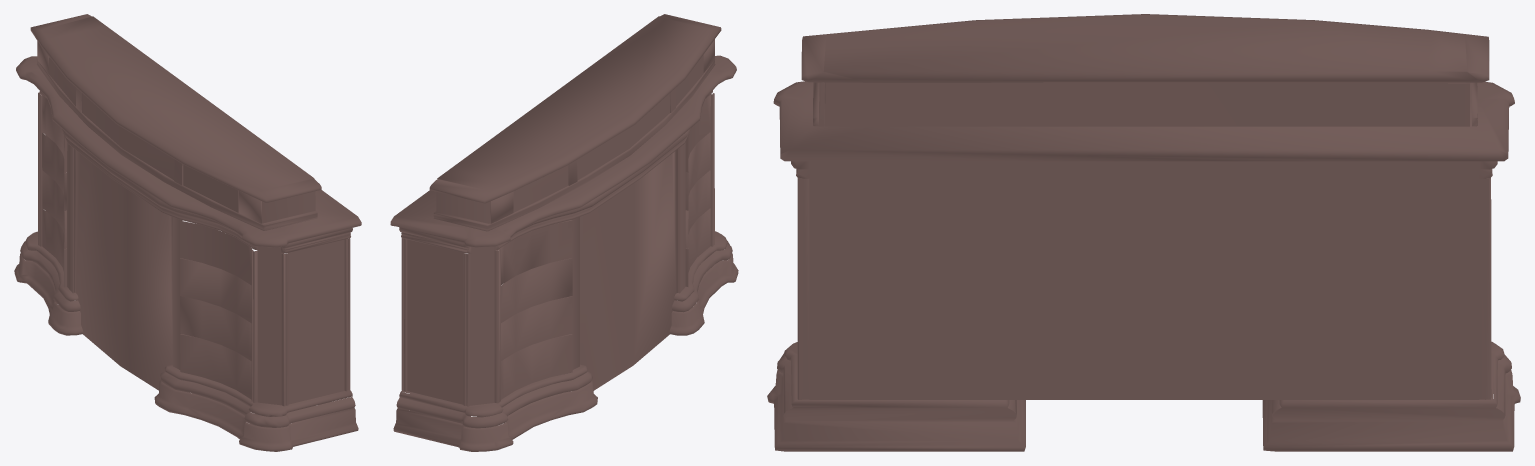
File: ConferenceRoom18.gltf
3 views of the same model, side by side, from view 1: azimuth 30°, elevation 25°; view 2: azimuth 150°, elevation 25°; view 3: azimuth 270°, elevation 25° (orthographic). The views are drawn at different scales.
Visible parts, largest first — view 1: 室内-讲台; view 2: 室内-讲台; view 3: 室内-讲台.
Part boxes in pixels (x1,y1,x2,y2): 室内-讲台: [14, 14, 361, 451]; 室内-讲台: [390, 14, 738, 451]; 室内-讲台: [767, 14, 1520, 451].
Size of the model in its own units: 0.6288 by 1.14 by 2.15.
